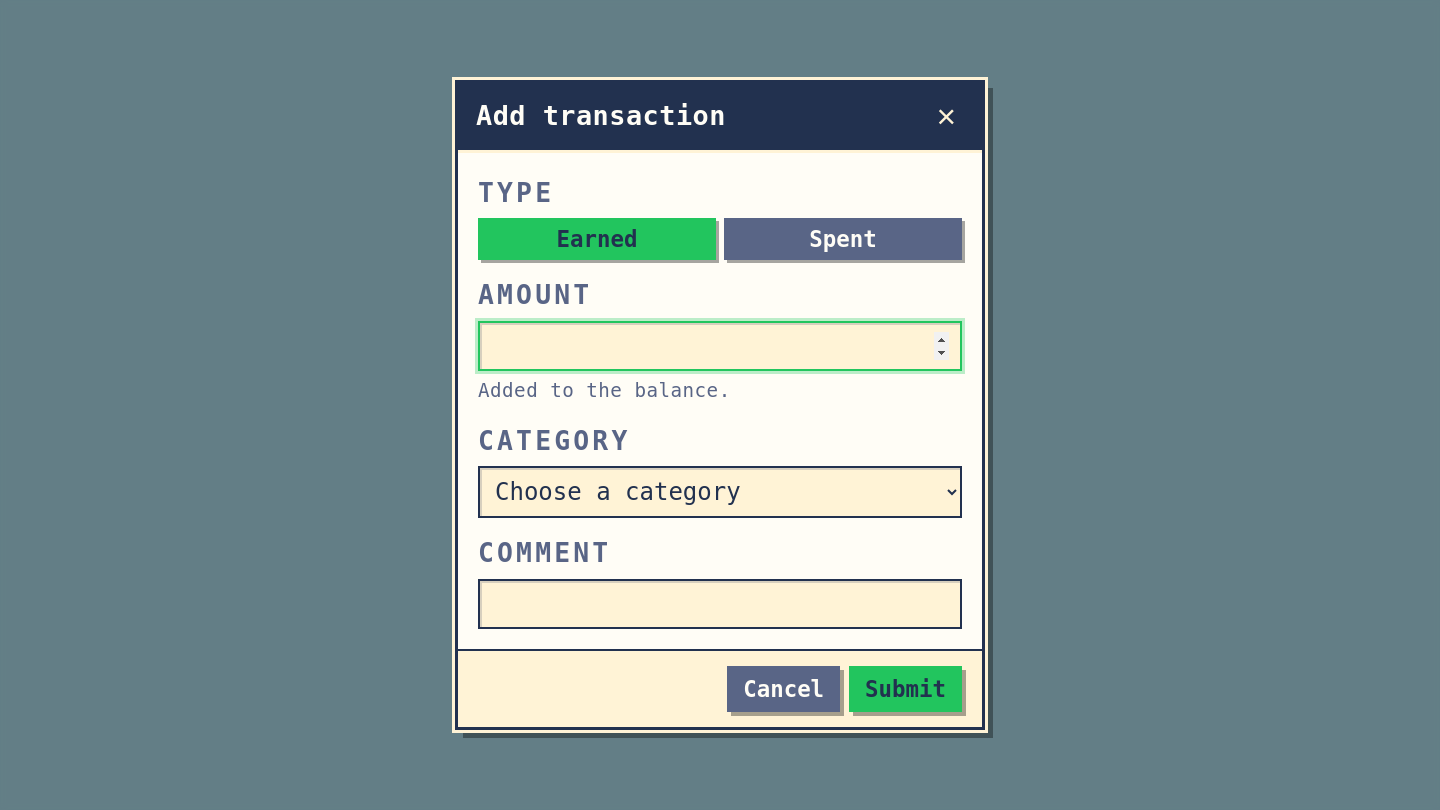
CoinForm › requires a category before it will write
Type "10" into the number field labelled "Amount" at (720, 346), box [478,321,962,371]
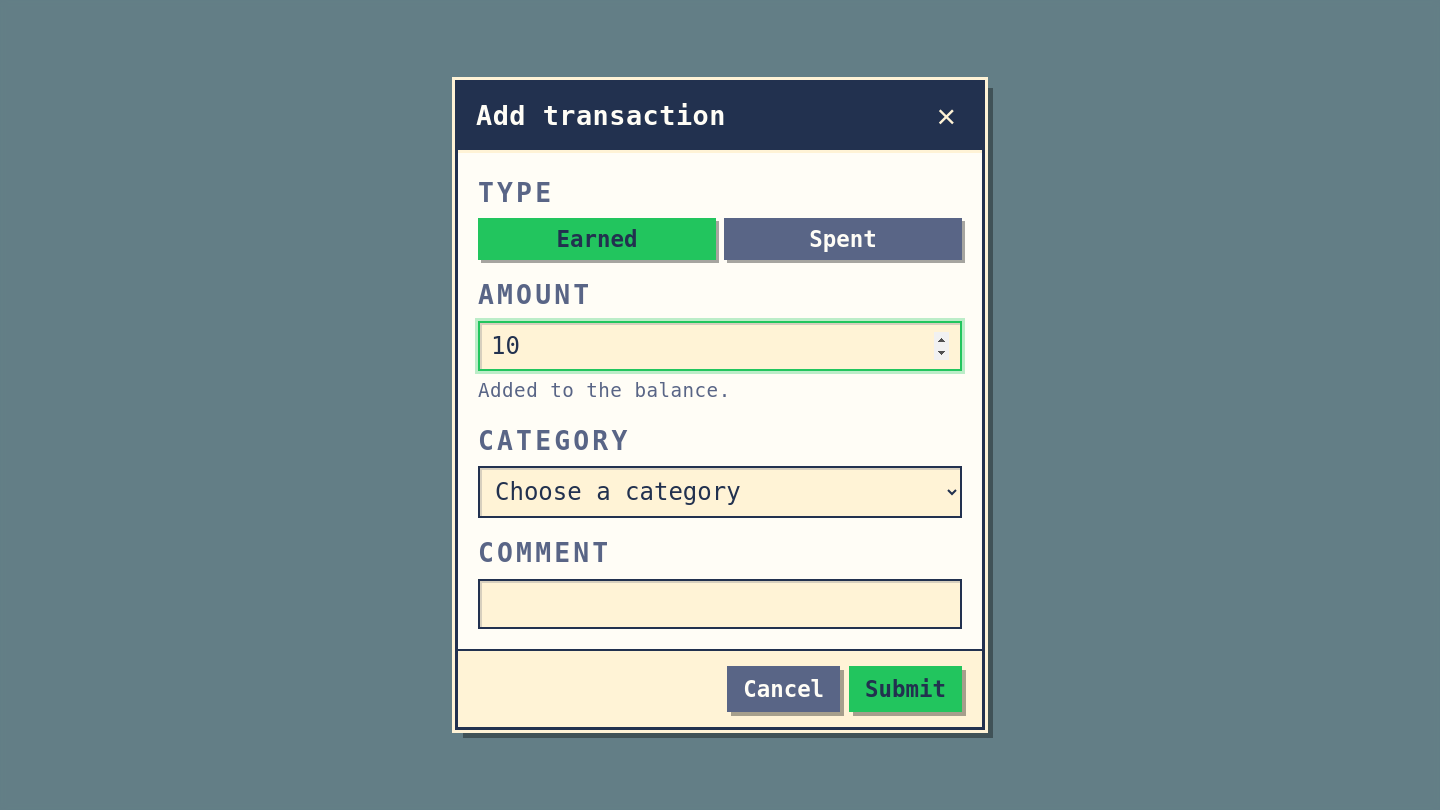
Click the button "Submit" at (906, 689), box [849,666,962,712]
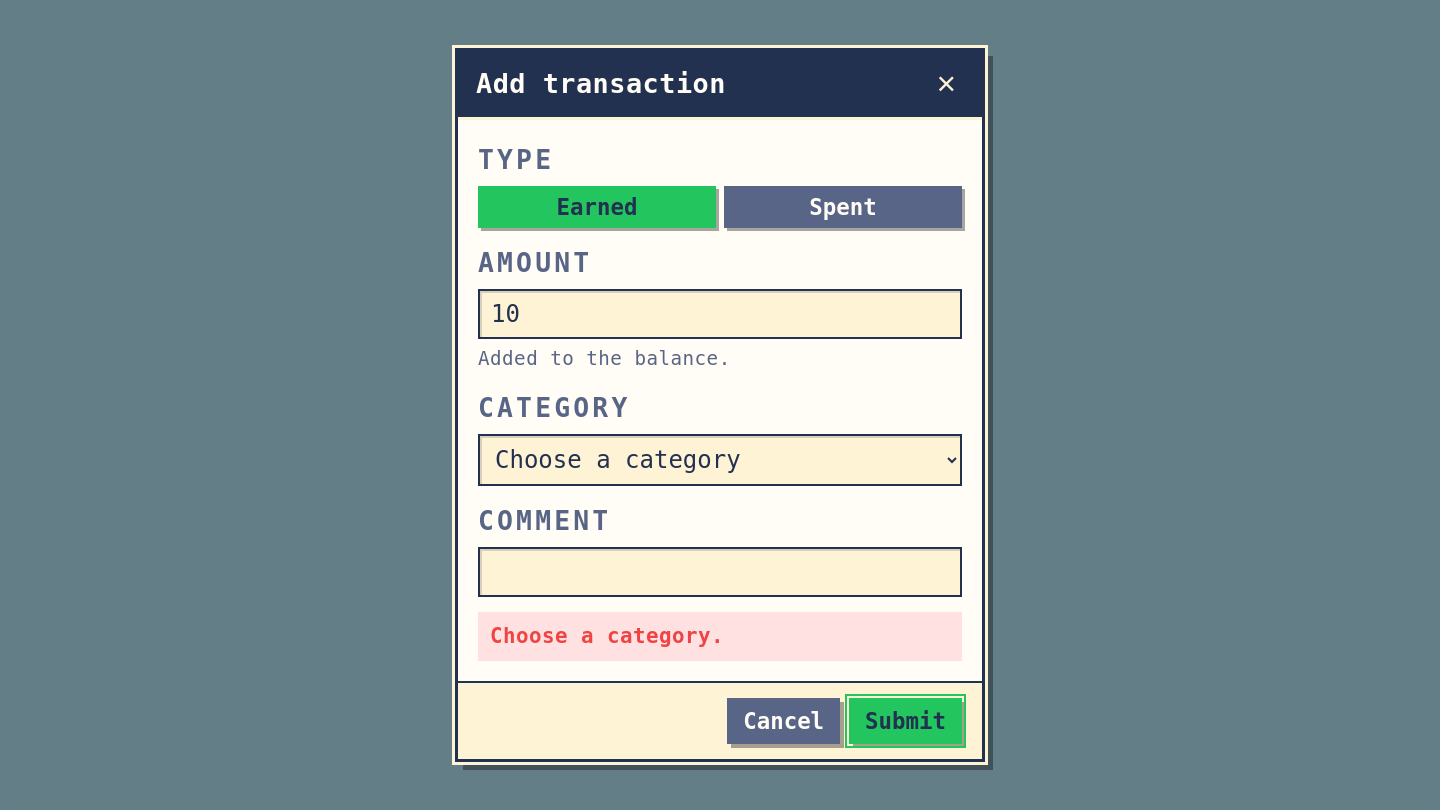
Expected: the message shows "category", [490,624,724,648]
